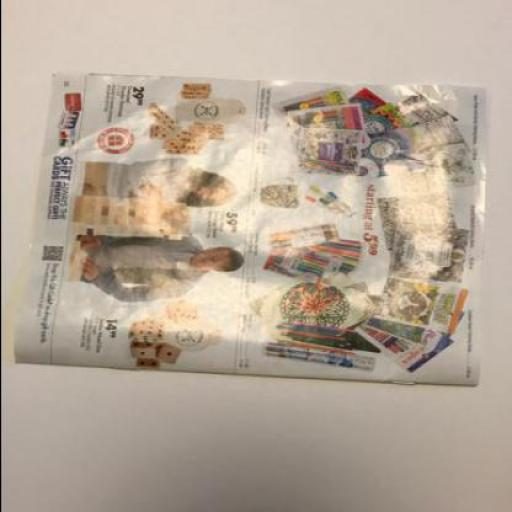paper: (13, 74, 489, 384)
